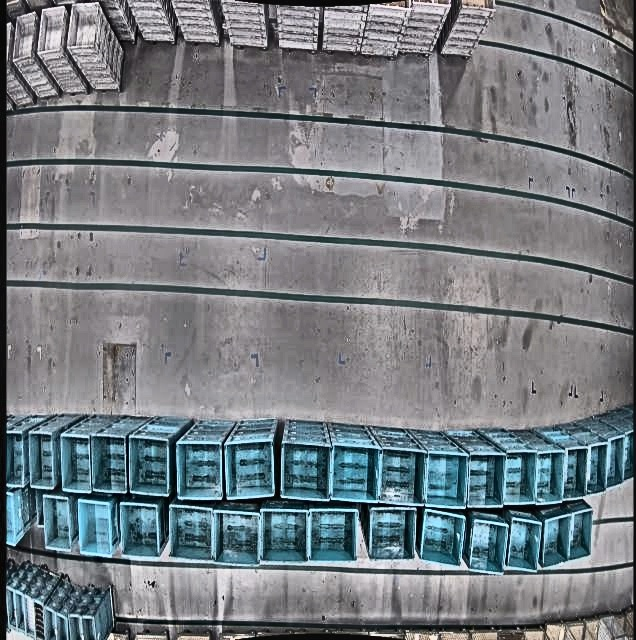Box: (279, 438, 331, 501), (225, 436, 275, 500), (176, 436, 224, 501), (260, 505, 309, 566), (309, 505, 358, 566), (168, 501, 215, 563), (368, 504, 417, 563), (330, 442, 377, 503), (216, 507, 262, 567), (128, 434, 171, 498), (119, 499, 163, 561), (424, 449, 469, 509), (420, 508, 464, 569), (378, 445, 419, 506), (470, 516, 508, 575), (78, 497, 113, 557), (506, 515, 542, 572), (61, 430, 93, 491), (467, 451, 500, 508), (42, 493, 73, 552), (92, 432, 122, 492), (541, 513, 571, 568), (534, 447, 562, 504), (30, 429, 57, 488), (503, 448, 530, 505), (569, 506, 593, 564), (563, 445, 587, 500), (586, 439, 608, 493), (6, 429, 26, 487), (7, 488, 27, 545), (607, 434, 624, 490), (6, 582, 17, 635), (623, 429, 634, 482), (24, 593, 35, 640), (68, 612, 83, 640), (461, 0, 498, 11), (83, 615, 99, 640), (45, 605, 56, 640), (35, 598, 44, 640), (56, 612, 68, 640), (17, 589, 24, 637)
